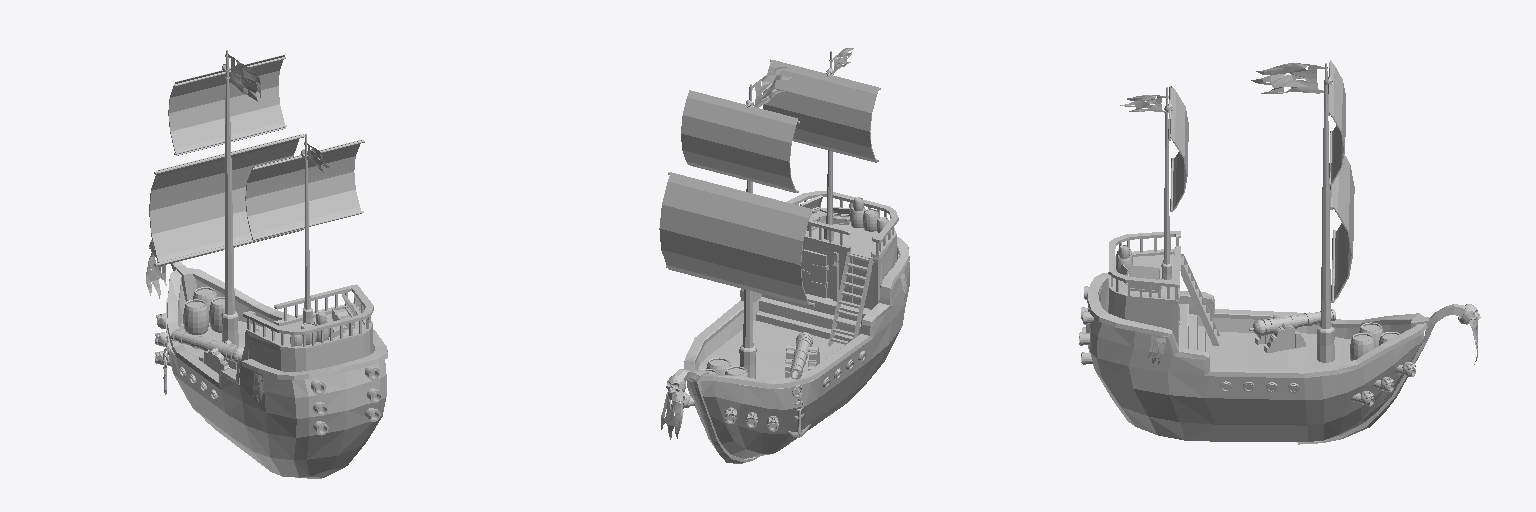
File: stylized_ship.obj
3 views of the same model, side by side, from view 1: azimuth 30°, elevation 25°; view 2: azimuth 150°, elevation 25°; view 3: azimuth 270°, elevation 25° (orthographic).
Parts seen in each view (by area): view 1: ship_Cube.010, big_flags_Cube.014, barrels_Cylinder.008, flags_Cube.017, cannon1_Cylinder.015, cannon2_Cylinder.018; view 2: ship_Cube.010, big_flags_Cube.014, flags_Cube.017, wood_stair_Cube.005, barrels_Cylinder.008, cannon1_Cylinder.015, door_Cube.009, Skull_Skull.008, treasure_Cube.004, cannon2_Cylinder.018; view 3: ship_Cube.010, big_flags_Cube.014, flags_Cube.017, cannon1_Cylinder.015, barrels_Cylinder.008, cannon2_Cylinder.018, wood_stair_Cube.005, Skull_Skull.008, treasure_Cube.004.
Part boxes in pixels (x1,y1,x2,y2): ship_Cube.010: (154,50,387,478); big_flags_Cube.014: (149,54,361,265); barrels_Cylinder.008: (183,287,329,345); flags_Cube.017: (146,55,329,405); cannon1_Cylinder.015: (171,329,243,373); cannon2_Cylinder.018: (155,321,381,435); ship_Cube.010: (666,51,909,463); big_flags_Cube.014: (659,60,878,305); flags_Cube.017: (661,48,906,439); wood_stair_Cube.005: (828,252,872,346); barrels_Cylinder.008: (701,197,888,376); cannon1_Cylinder.015: (785,332,819,379); door_Cube.009: (803,249,828,297); Skull_Skull.008: (666,68,834,425); treasure_Cube.004: (800,195,850,230); cannon2_Cylinder.018: (679,351,866,431); ship_Cube.010: (1086,62,1468,444); big_flags_Cube.014: (1170,60,1354,300); flags_Cube.017: (1120,63,1477,364); cannon1_Cylinder.015: (1249,309,1335,352); barrels_Cylinder.008: (1116,245,1399,360); cannon2_Cylinder.018: (1079,286,1415,406); wood_stair_Cube.005: (1180,254,1219,345); Skull_Skull.008: (1164,77,1480,405); treasure_Cube.004: (1119,264,1161,292).
Bounding box in the file's own units: 5.4 × 13.08 × 12.55.